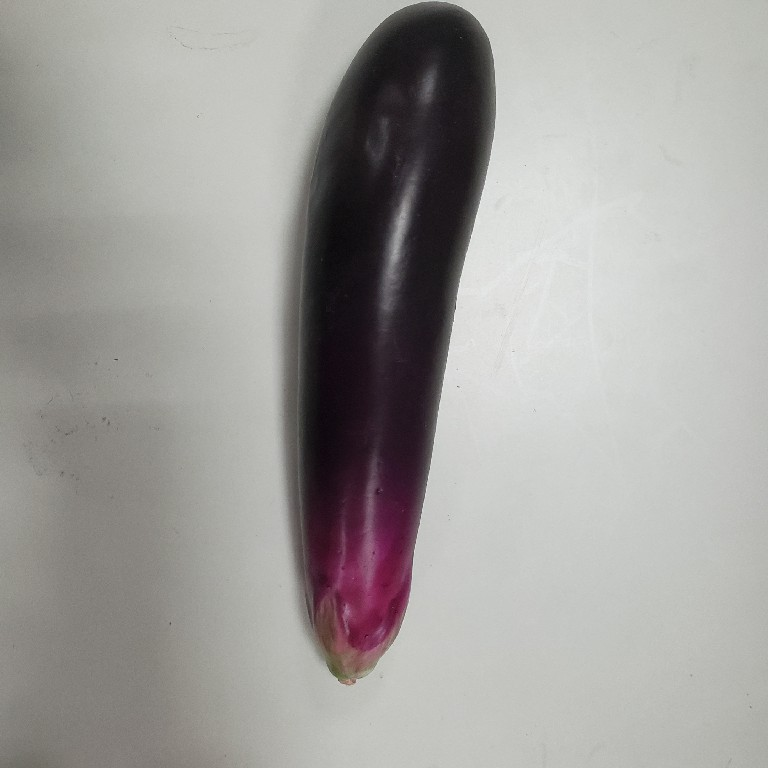fruit_eggplant: (291, 1, 510, 690)
